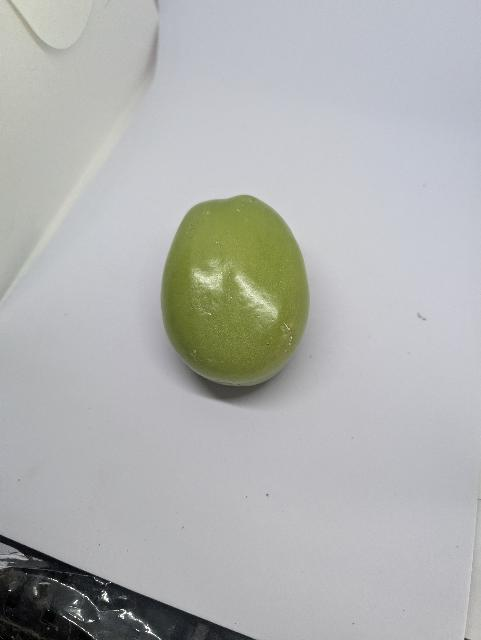green: (153, 190, 320, 394)
